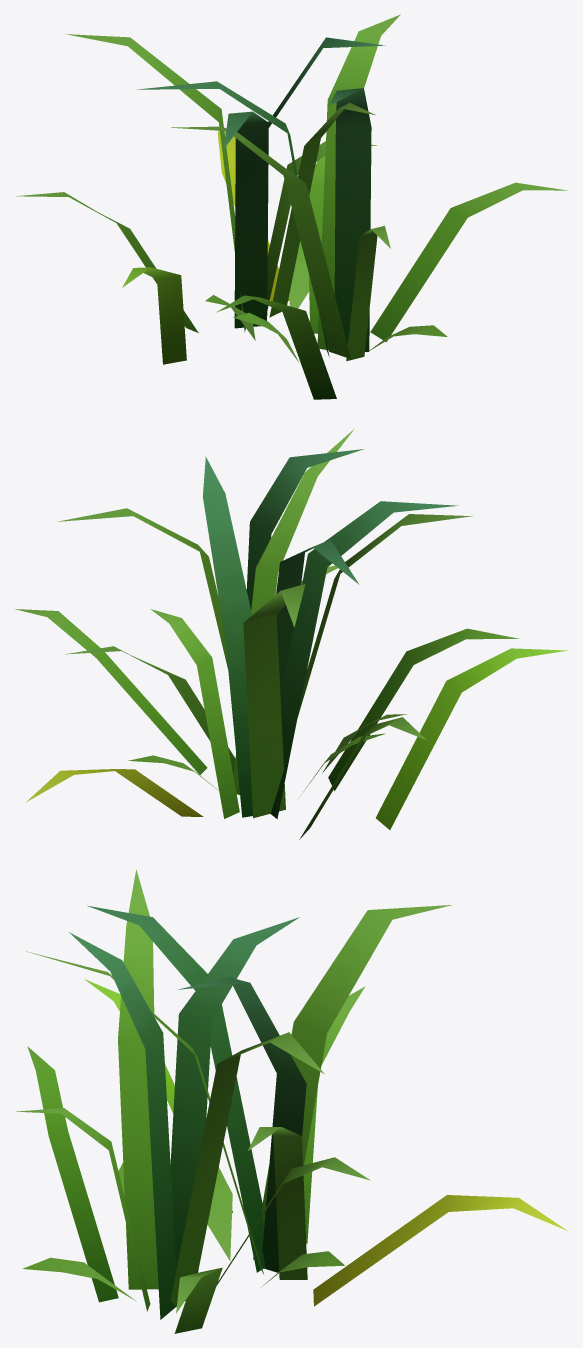
File: SM_Grass_01.fbx
3 renders of one model, top to bottom at view 1: azimuth 30°, elevation 25°; view 2: azimuth 150°, elevation 25°; view 3: azimuth 270°, elevation 25°, orthographic. The views are drawn at different scales.
Visible parts, largest first — view 1: SM_Grass_01; view 2: SM_Grass_01; view 3: SM_Grass_01.
Part boxes in pixels (box(x1,y1,x2,y2)): SM_Grass_01: box(16, 14, 567, 399); SM_Grass_01: box(15, 428, 568, 839); SM_Grass_01: box(16, 869, 568, 1333).
Bounding box in the file's own units: 1.23 × 0.7522 × 1.04.
